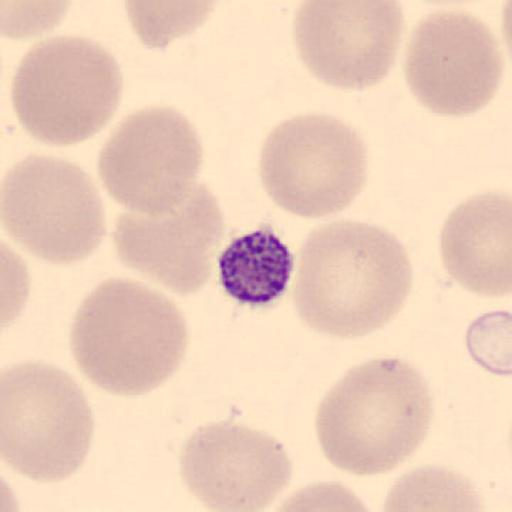Platelet: (215, 224, 298, 309)
RBC: (289, 217, 415, 342), (68, 274, 191, 398), (313, 354, 435, 478), (111, 177, 226, 297), (10, 33, 124, 148), (257, 110, 372, 221), (96, 102, 207, 216), (2, 152, 106, 266), (2, 358, 96, 484), (402, 8, 504, 118), (176, 418, 294, 511), (290, 0, 404, 92), (438, 188, 512, 298), (122, 0, 222, 51), (380, 464, 486, 512), (259, 478, 382, 512), (463, 304, 512, 380), (2, 0, 75, 41), (1, 237, 32, 331), (0, 461, 23, 512)
